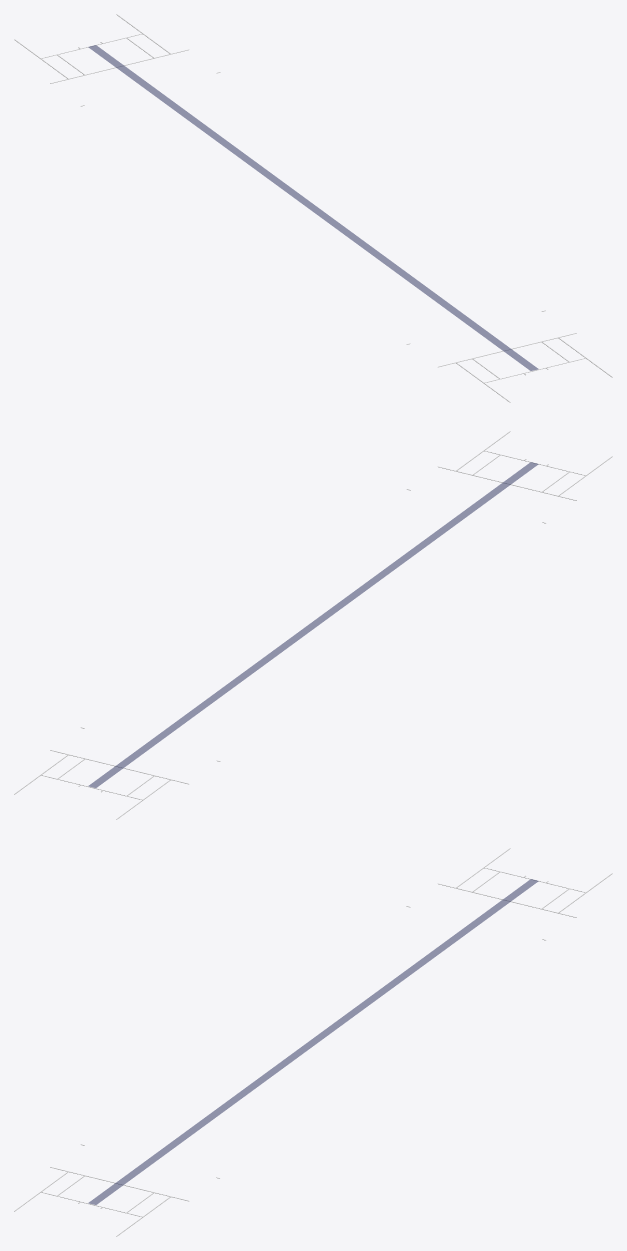
The model's file is white_line_2048.glb.
3 renders of one model, top to bottom at view 1: azimuth 30°, elevation 25°; view 2: azimuth 150°, elevation 25°; view 3: azimuth 330°, elevation 25°, orthographic.
Visible parts, largest first — view 1: pitch_mid_line, pitch_white_line; view 2: pitch_mid_line, pitch_white_line; view 3: pitch_mid_line, pitch_white_line.
Boxes of the visible parts, x1=… form: pitch_mid_line: x1=88, y1=45, x2=538, y2=370; pitch_white_line: x1=14, y1=14, x2=612, y2=402; pitch_mid_line: x1=88, y1=462, x2=538, y2=787; pitch_white_line: x1=14, y1=431, x2=612, y2=819; pitch_mid_line: x1=88, y1=879, x2=538, y2=1204; pitch_white_line: x1=14, y1=848, x2=612, y2=1236.
Size of the model in its own units: 3.66 by 0.0118 by 22.56.
